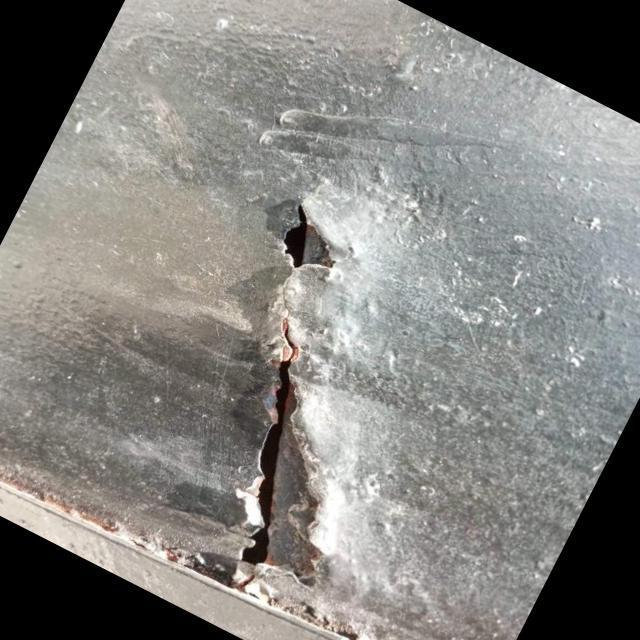defect: (227, 198, 336, 591)
